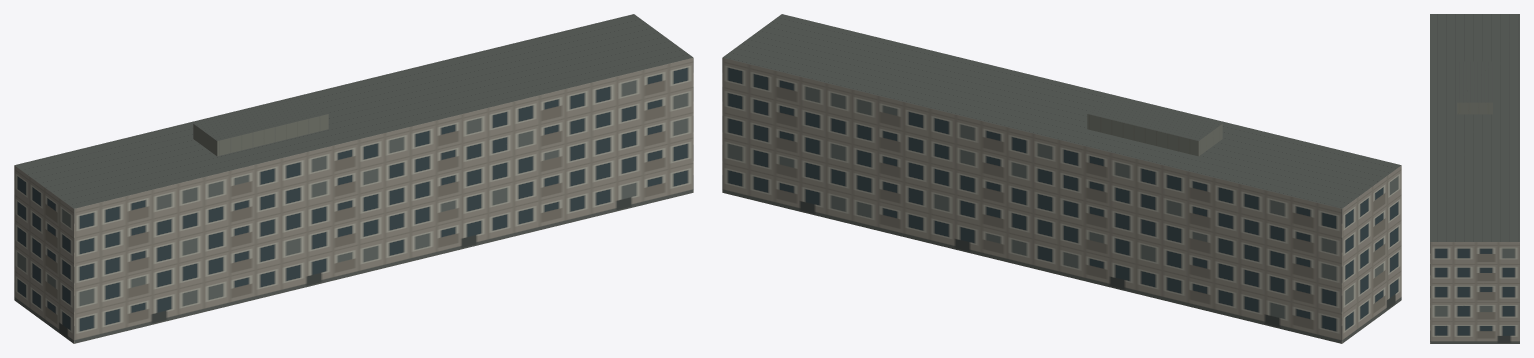
Rendered from kyiv_khrushchyovka_04.obj.
3 views of the same model, side by side, from view 1: azimuth 30°, elevation 25°; view 2: azimuth 150°, elevation 25°; view 3: azimuth 270°, elevation 25° (orthographic). The views are drawn at different scales.
Visible parts, largest first — view 1: kyiv_khrushchyovka_04; view 2: kyiv_khrushchyovka_04; view 3: kyiv_khrushchyovka_04.
Boxes of the visible parts, x1=… form: kyiv_khrushchyovka_04: x1=14, y1=14, x2=693, y2=343; kyiv_khrushchyovka_04: x1=722, y1=14, x2=1401, y2=343; kyiv_khrushchyovka_04: x1=1430, y1=14, x2=1519, y2=343.
Size of the model in its own units: 72 by 16.7 by 12.
Materials: 1 (1 with a texture image).
